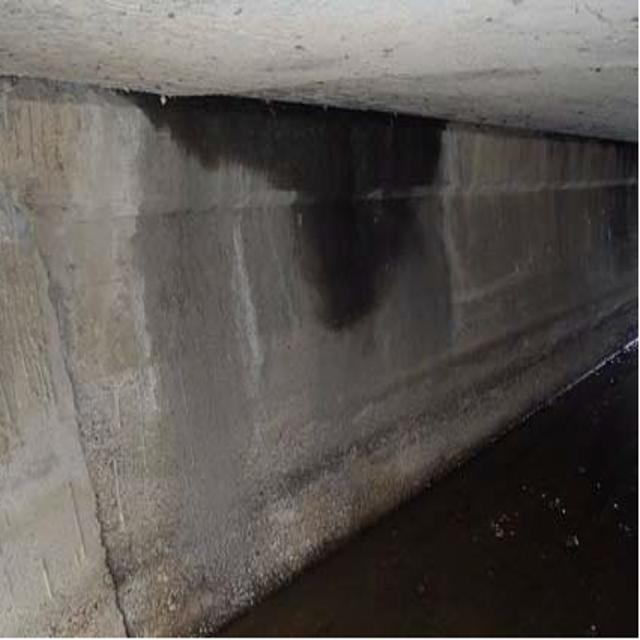leakage: (138, 70, 458, 347)
